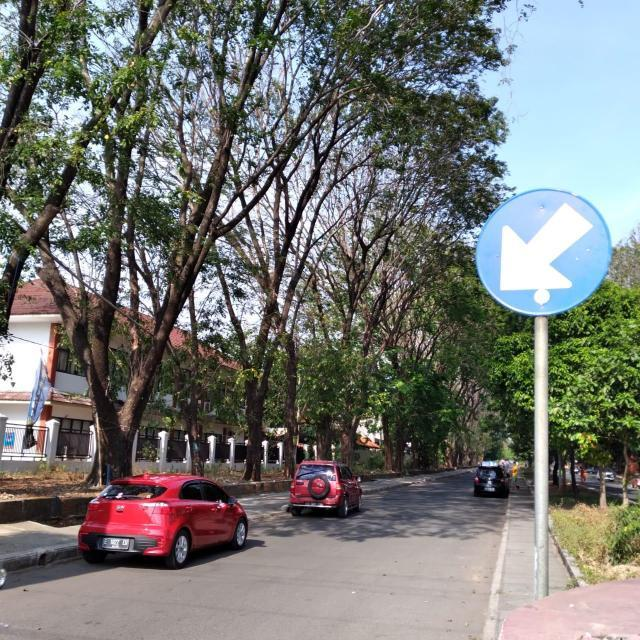traffic sign: (476, 190, 609, 314)
